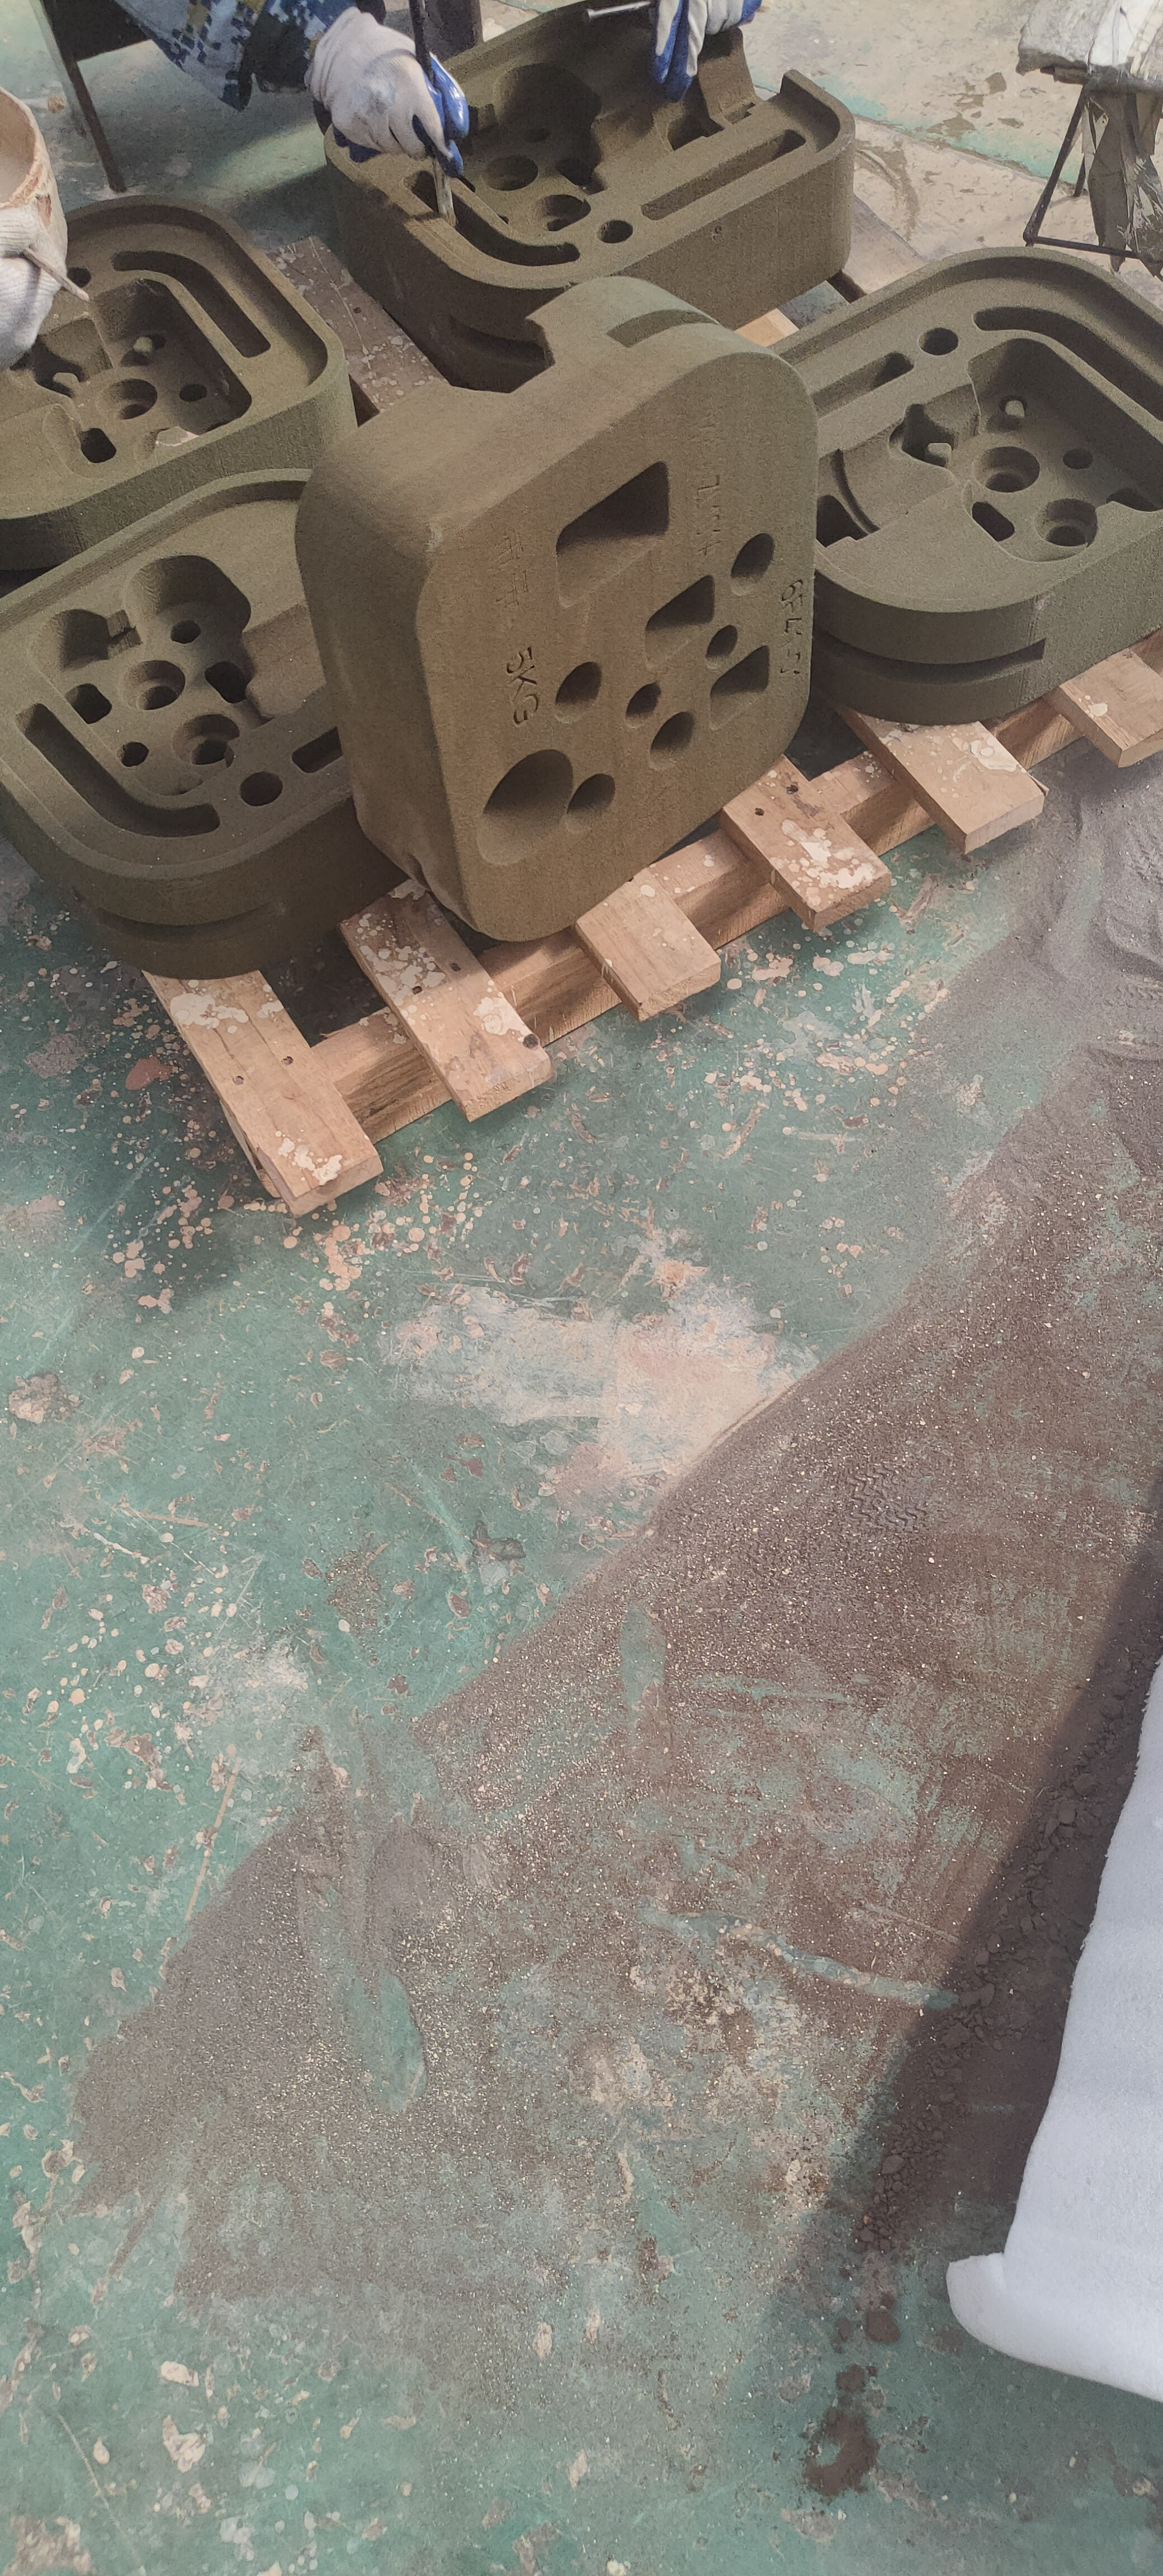pouring hole: (476, 749, 575, 866)
